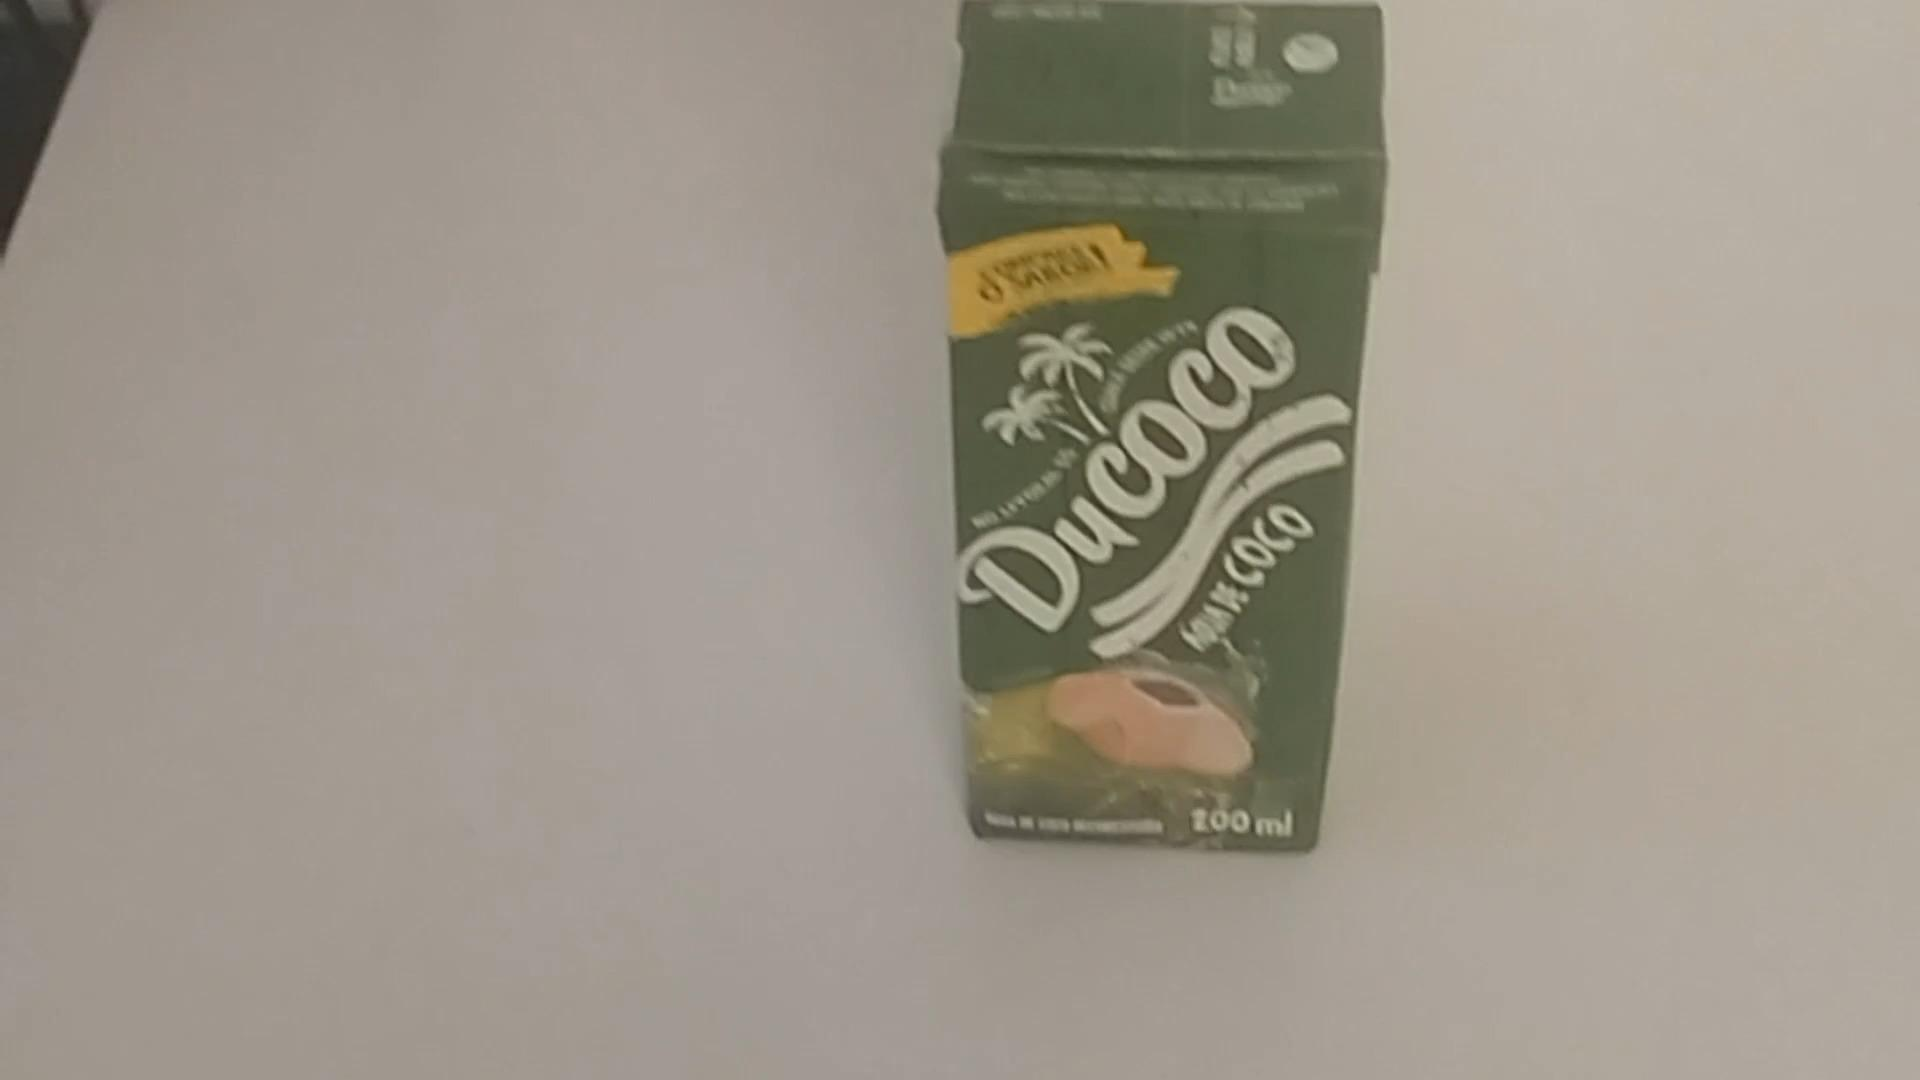coco: (943, 3, 1386, 862)
